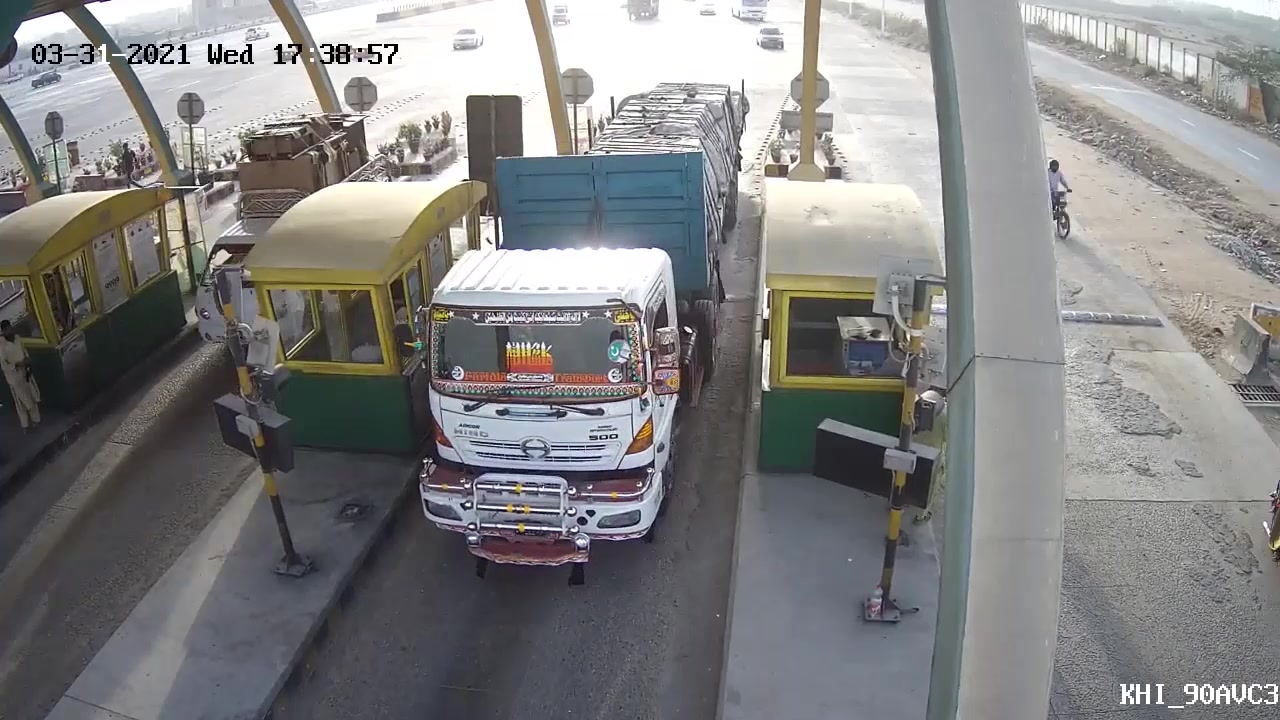F6: (413, 64, 757, 584)
